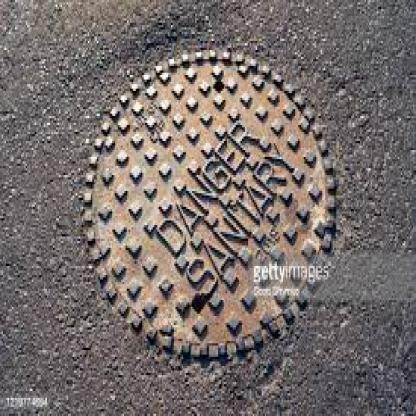closed manhole-not overflowing-: (84, 49, 336, 356)
